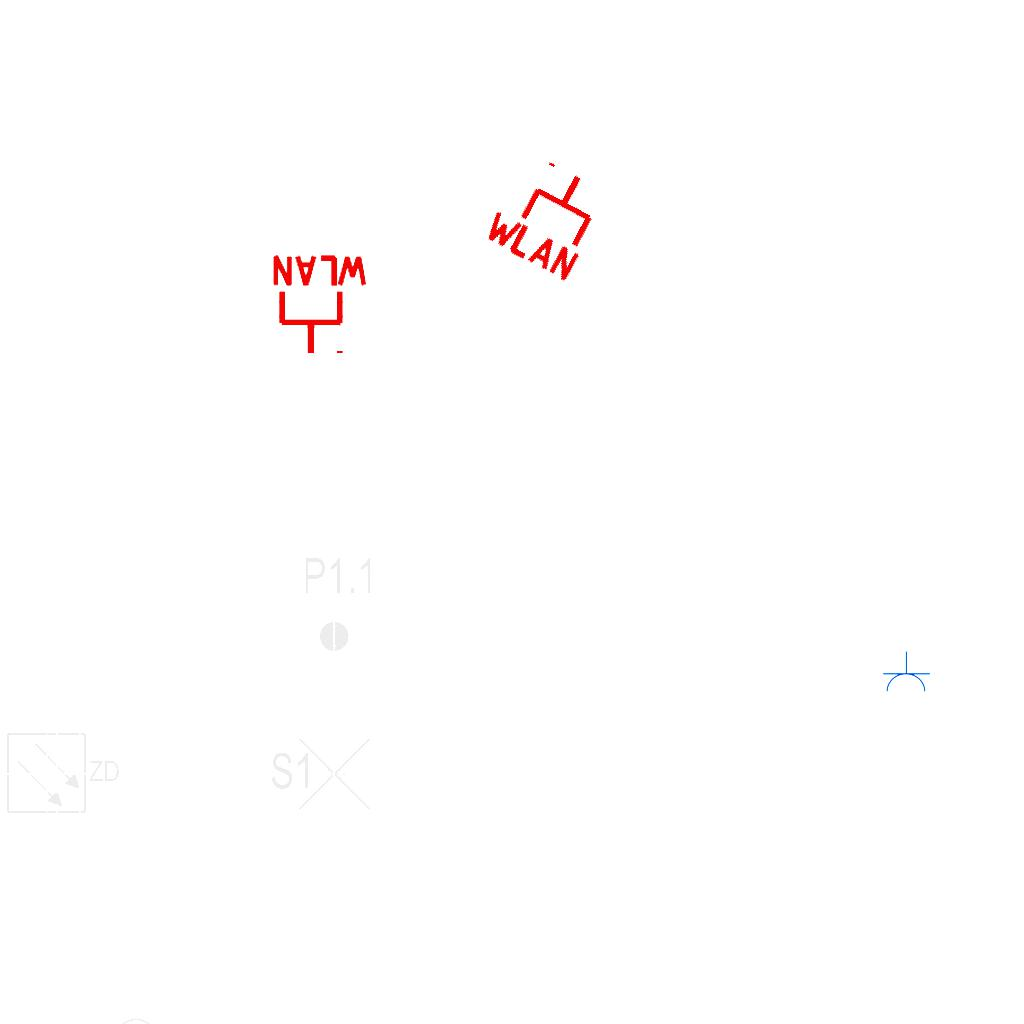Schukosteckdose_einfach: (881, 651, 931, 694)
WLAN: (476, 144, 619, 286), (268, 253, 372, 358)
